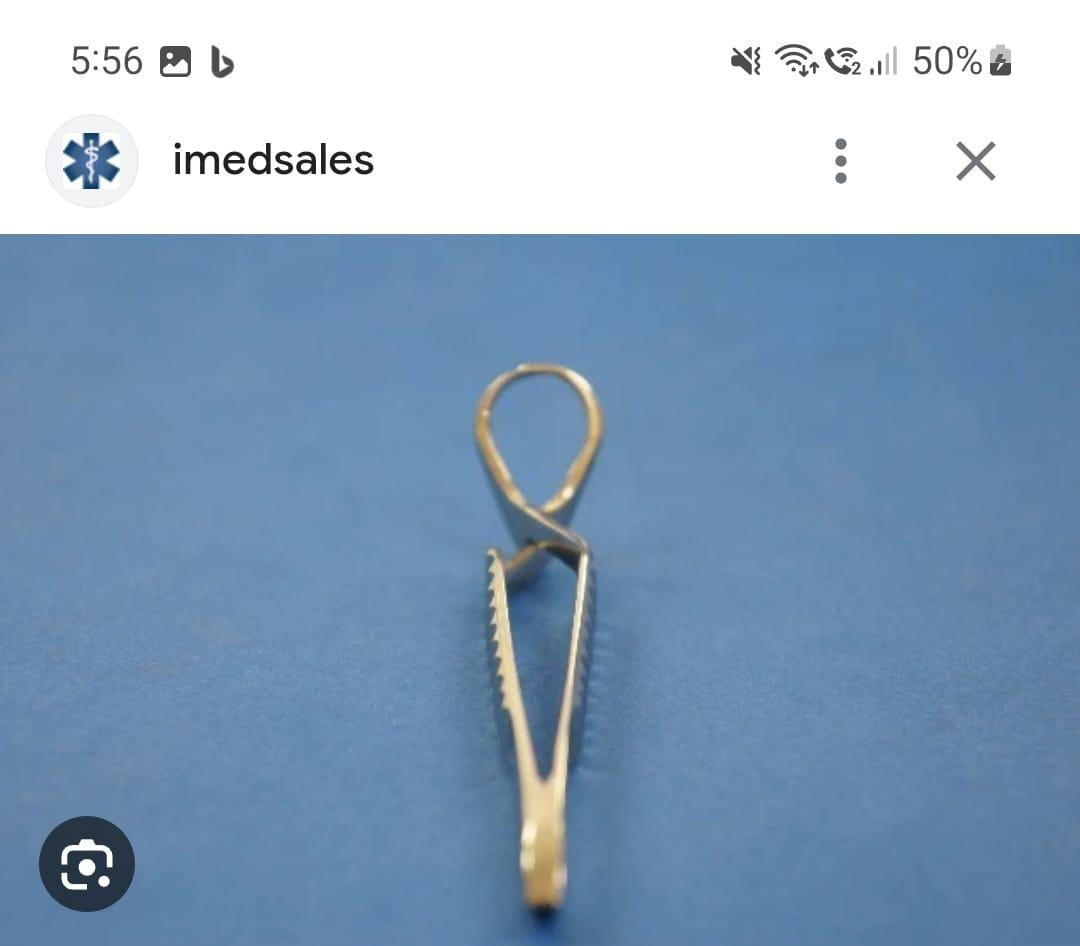Jones Towel Clamp: (459, 343, 623, 923)
